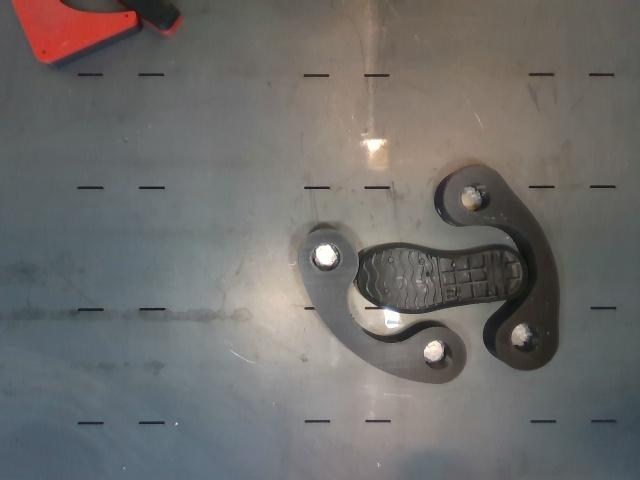shoes: (358, 244, 528, 314)
